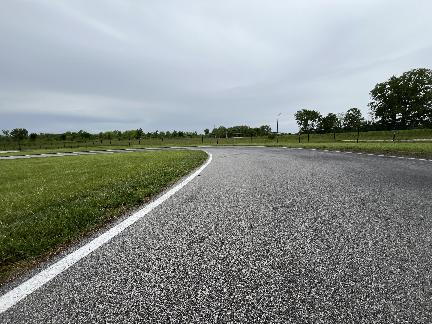Grass: (0, 150, 207, 277), (0, 137, 275, 156), (177, 138, 431, 153)
Lane: (0, 147, 431, 323)
